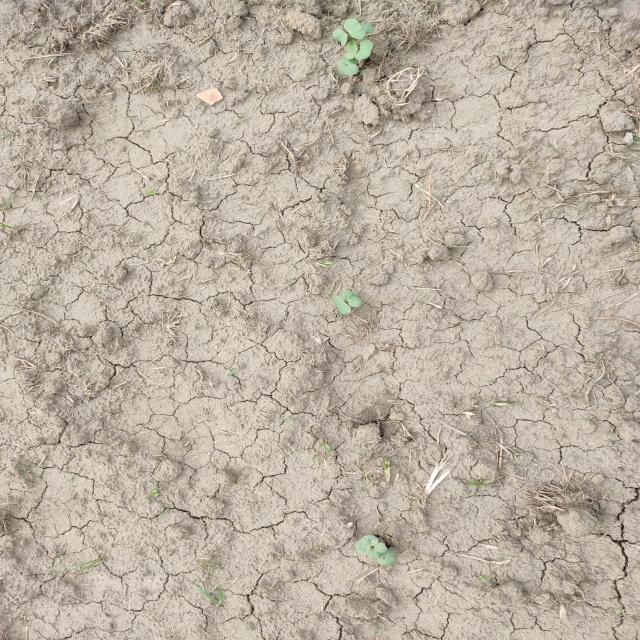seedling_s2: (344, 18, 365, 39), (356, 535, 378, 554), (355, 39, 374, 60), (332, 295, 351, 315), (368, 542, 387, 560), (342, 290, 362, 307), (376, 549, 396, 565), (345, 40, 358, 60), (333, 29, 348, 45), (338, 64, 359, 75), (360, 23, 375, 33), (338, 58, 358, 65)
